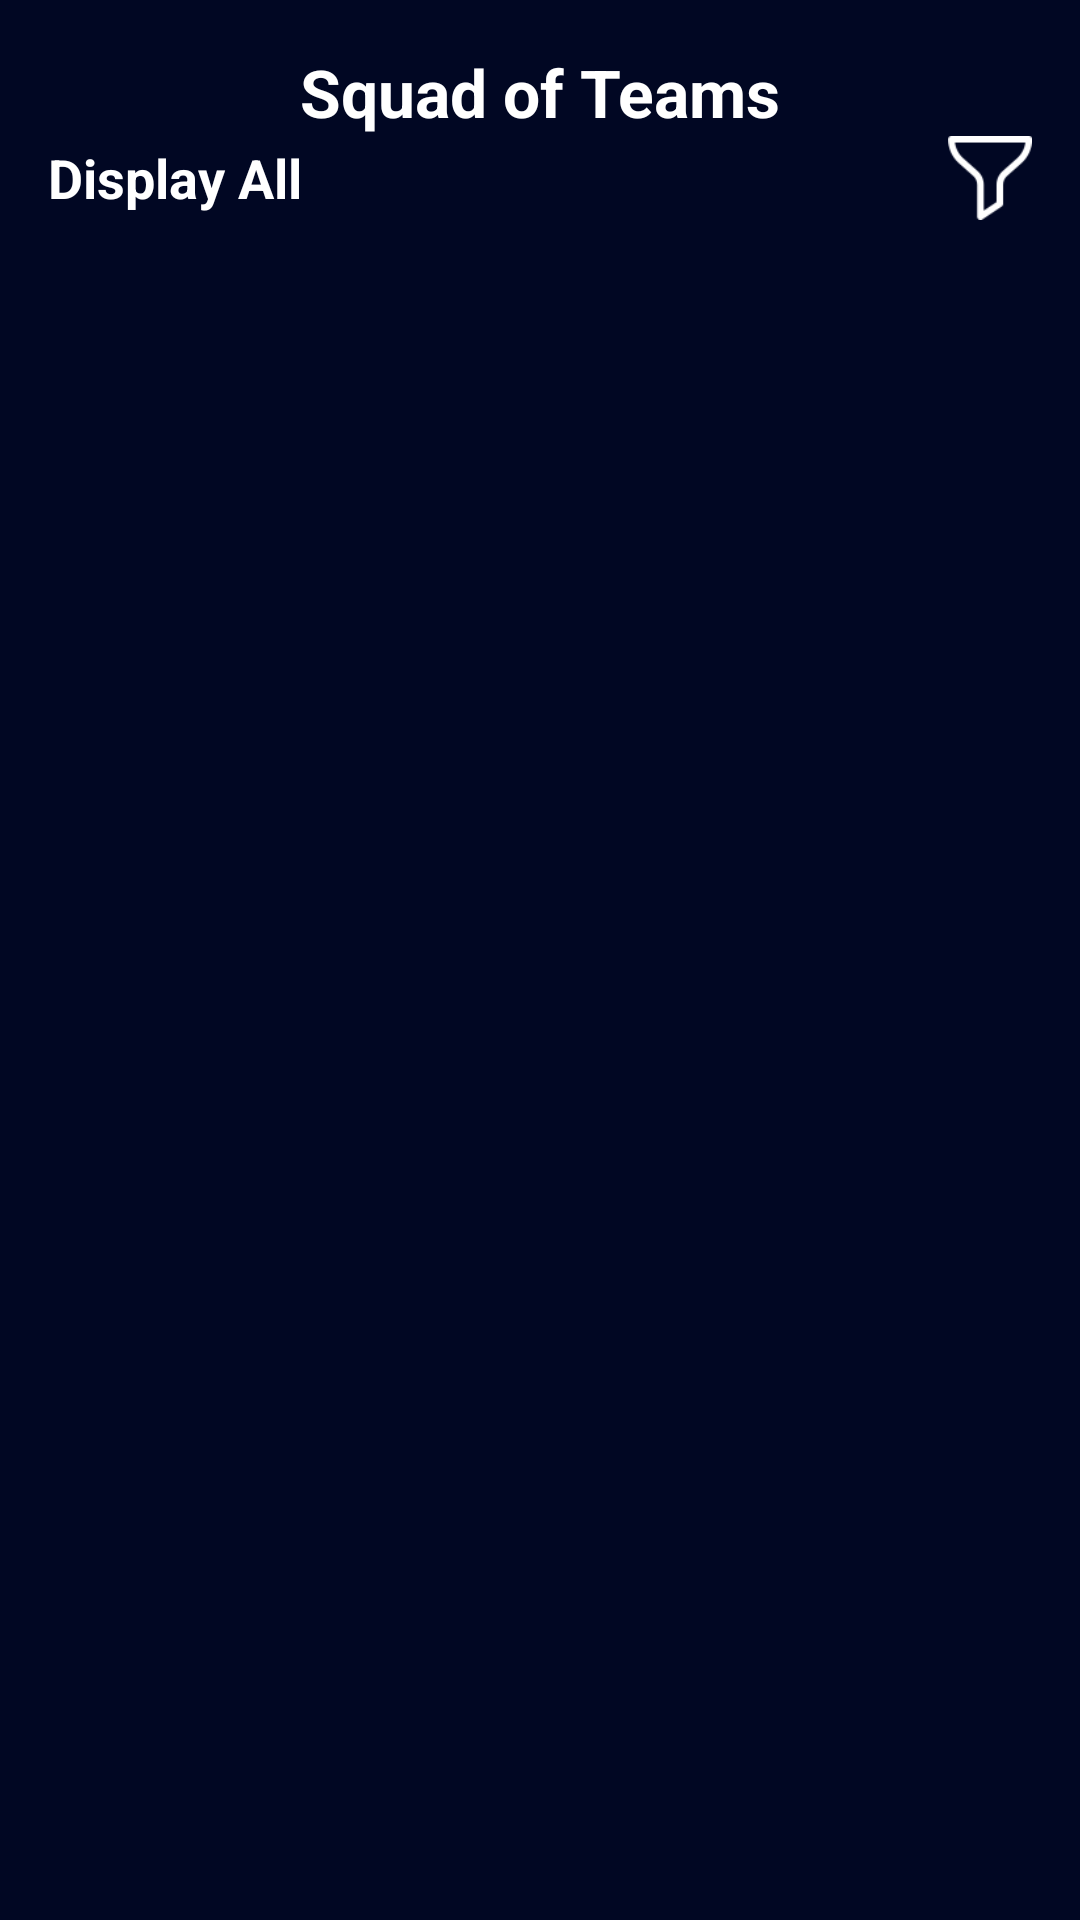

Where icons sit on this 1080 × 1920 app screen, as (x1, y1, x2, y2):
filter: (948, 136, 1032, 220)
